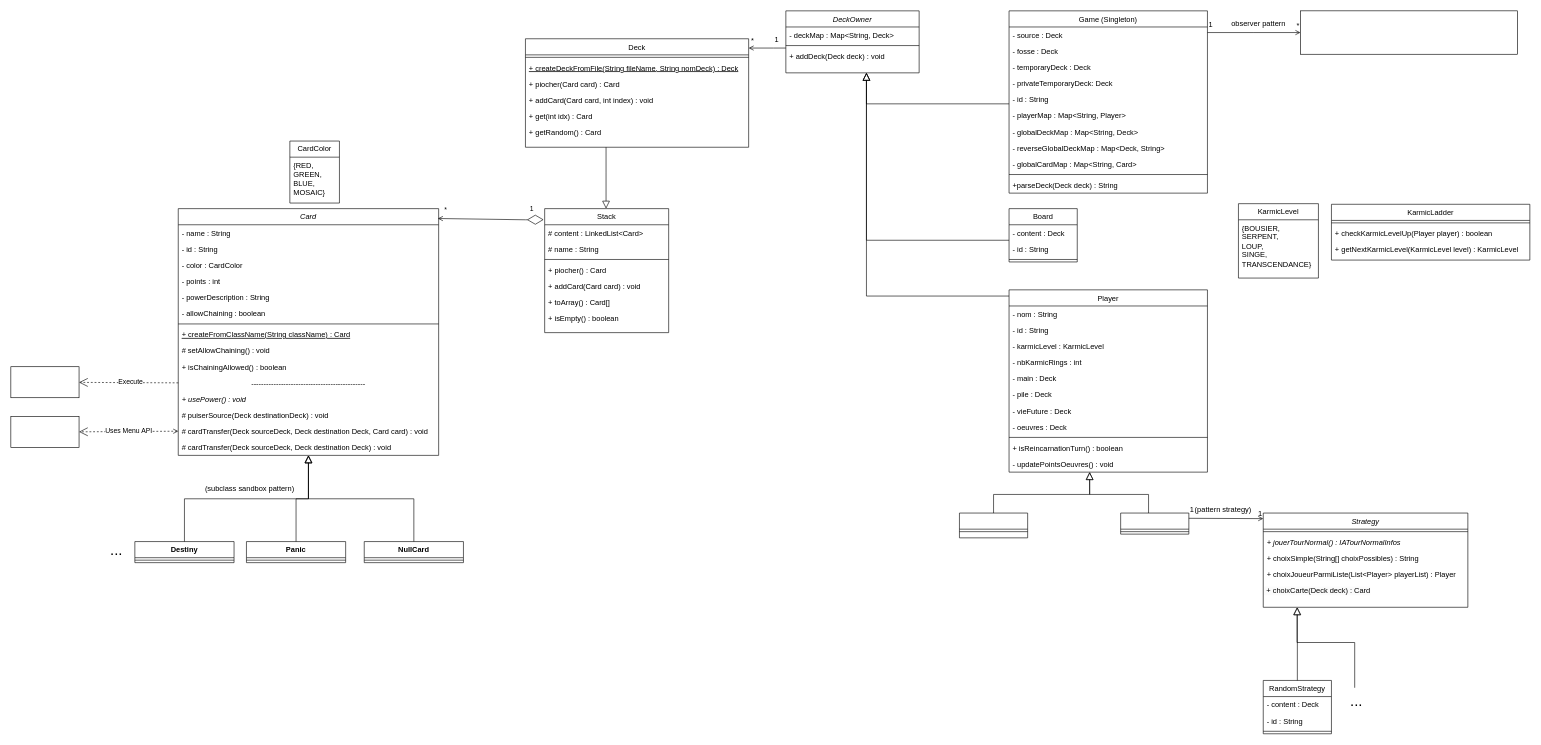
Image size: 1541x745. Some labels were removed from this diagram. The shapes that lost their labels are listed below. From the top down, each one's centre as x and y in pixels, then its label:
At point 1408,32: "<<Interface>> GameListener + onGameChange(CommandOnCore changeCommand) : void".
At point 44,382: "CommandOnCore".
At point 44,431: "GameController".
At point 993,525: "HumanPlayer".
At point 1154,523: "IAPlayer".
